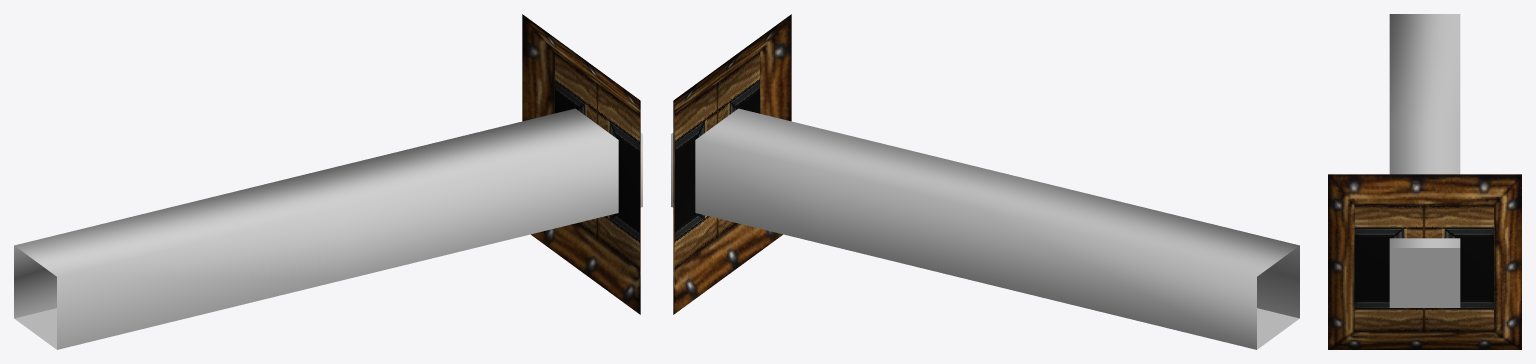
File: INST_WH2_PUSH_POST.obj
3 views of the same model, side by side, from view 1: azimuth 30°, elevation 25°; view 2: azimuth 150°, elevation 25°; view 3: azimuth 270°, elevation 25° (orthographic). The views are drawn at different scales.
Parts seen in each view (by area): view 1: RotBeams_993838, _PushBlock_Trim; view 2: RotBeams_993838, _PushBlock_Trim; view 3: _PushBlock_Trim, RotBeams_993838.
Part boxes in pixels (bbox=[...]): RotBeams_993838: bbox=[14, 108, 642, 349]; _PushBlock_Trim: bbox=[522, 14, 640, 314]; RotBeams_993838: bbox=[671, 108, 1299, 349]; _PushBlock_Trim: bbox=[673, 14, 791, 314]; _PushBlock_Trim: bbox=[1328, 174, 1521, 349]; RotBeams_993838: bbox=[1389, 14, 1460, 307].
Size of the model in its own units: 411 by 144 by 144.
